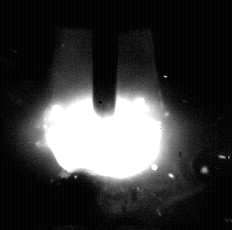arame: (93, 0, 118, 118)
poca: (44, 0, 164, 230)
